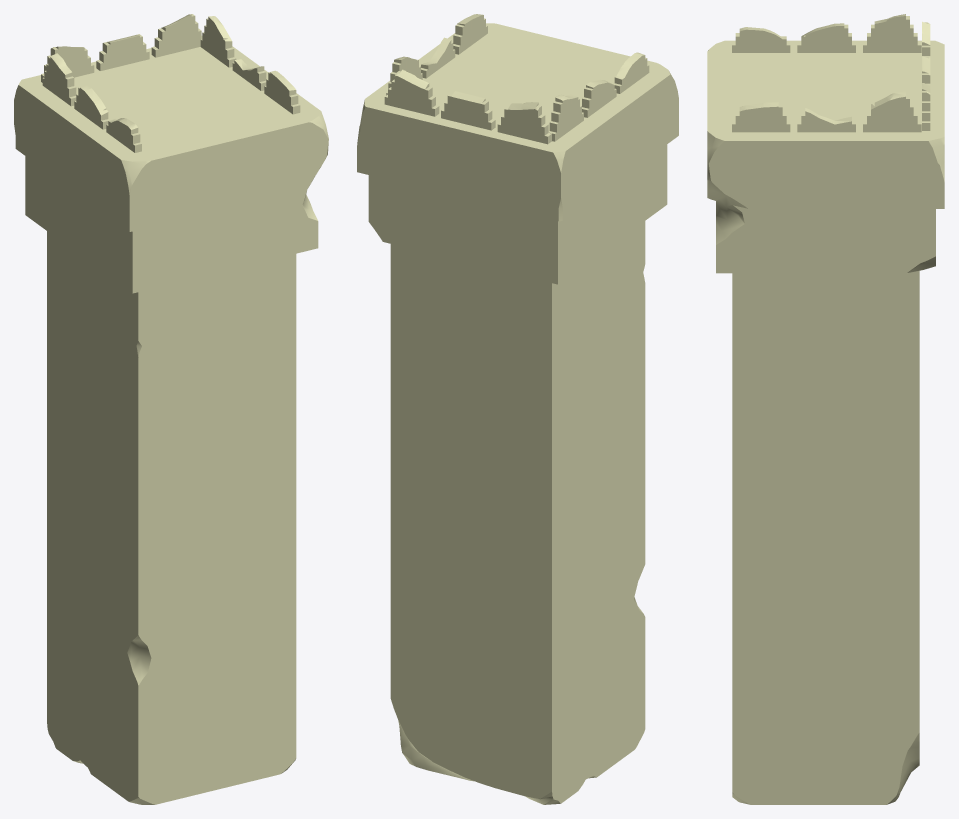
The model's file is Columna.fbx.
3 views of the same model, side by side, from view 1: azimuth 30°, elevation 25°; view 2: azimuth 150°, elevation 25°; view 3: azimuth 270°, elevation 25° (orthographic). The views are drawn at different scales.
Parts seen in each view (by area): view 1: Cube.021_dmg; view 2: Cube.021_dmg; view 3: Cube.021_dmg.
Boxes of the visible parts, x1,y1,x2,y2 form: Cube.021_dmg: (14, 14, 328, 804); Cube.021_dmg: (357, 14, 678, 804); Cube.021_dmg: (707, 14, 944, 804).
Bounding box in the file's own units: 921 × 3050 × 921.
